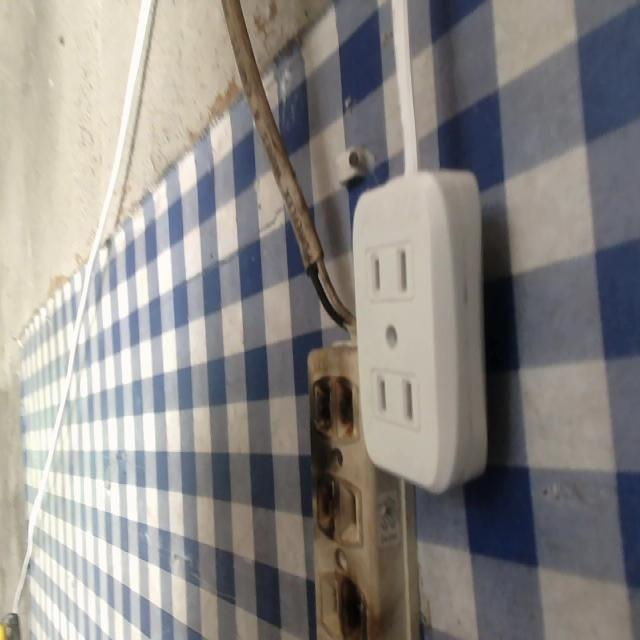-: (294, 359, 364, 457), (333, 570, 376, 638), (305, 468, 342, 536)
